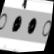correct: (24, 12, 41, 38)
not correct: (9, 0, 30, 35)
